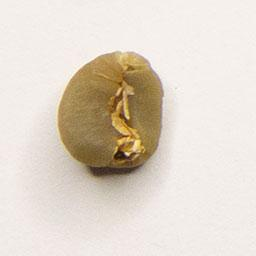premium: (53, 43, 171, 177)
